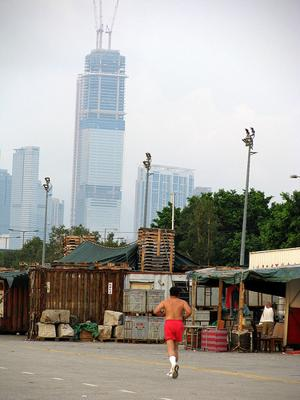person: (154, 289, 193, 380)
